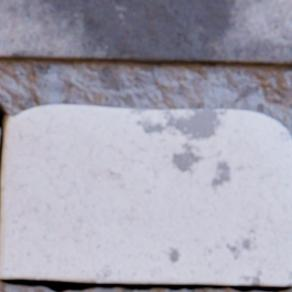brick: (0, 106, 291, 286), (0, 0, 291, 67)
crack: (0, 278, 289, 291), (0, 105, 9, 174), (0, 177, 1, 200)
